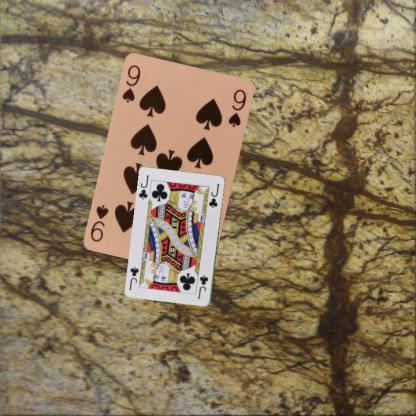9s: (120, 63, 142, 104)
Jc: (195, 273, 209, 300), (136, 173, 150, 200)
